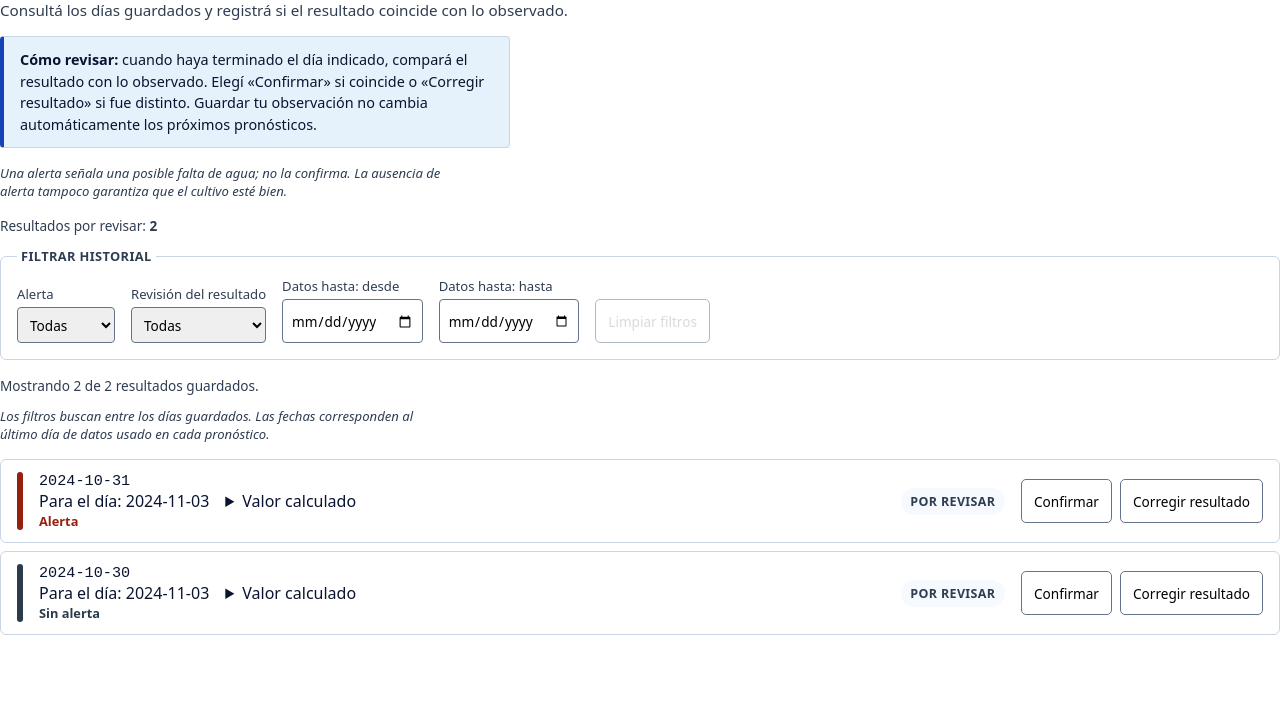
Test: ForecastPage (Historial y observaciones) › keeps each row independent when there are two rows with different states
Check: the text "2024-10-31" is shown, box [39,472,130,490]
Check: the number of list items is 2, box [0,459,1279,543]; [0,551,1279,635]
Click the button "Confirmar" in the row of "2024-10-31": (1066,501) [1021,479,1112,523]
(page scrolled)
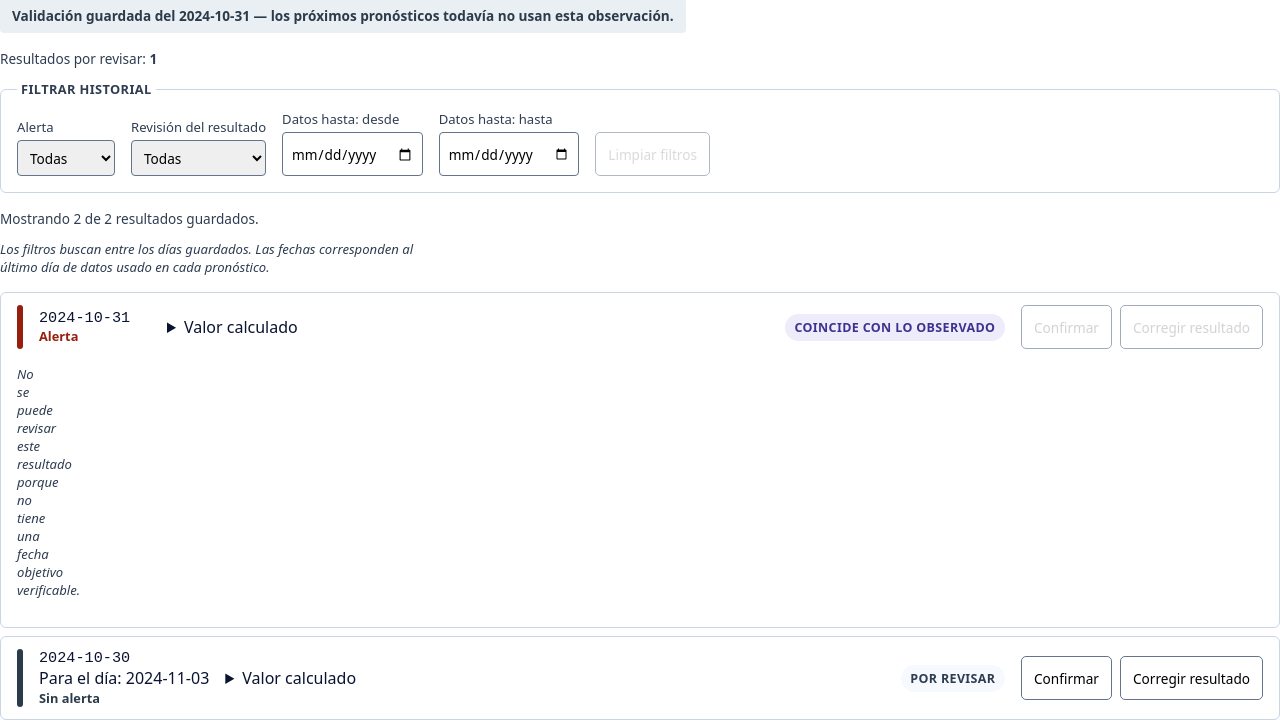
Check: the list item that starts with "Para el día:" shows "Por revisar", box [910,670,995,687]
Check: the list item that starts with "Alerta" shows "Coincide con lo observado", box [794,319,995,336]
